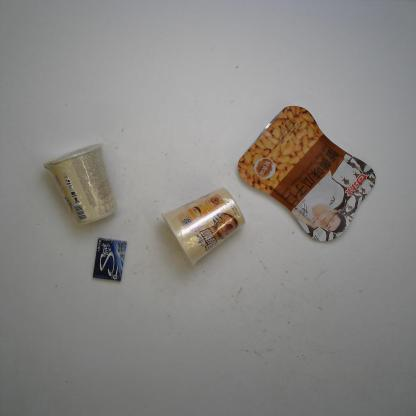Dried Fruit: (233, 104, 378, 244)
Gum: (94, 235, 129, 283)
Instant Noodles: (161, 187, 247, 268), (43, 143, 117, 226)
